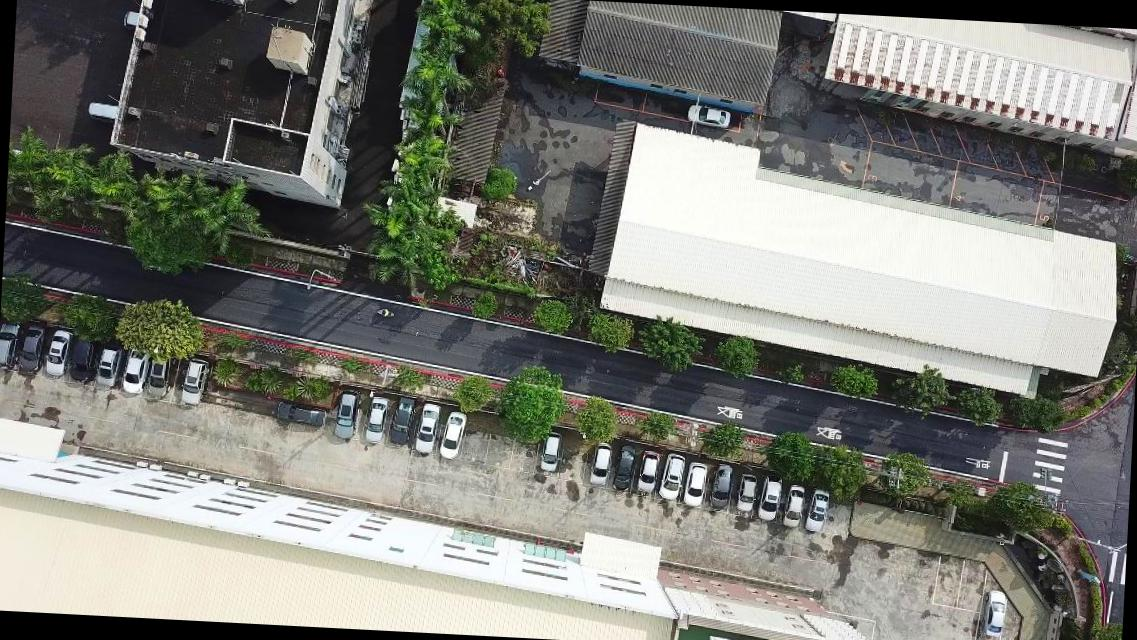vehicle: (413, 402, 442, 456), (17, 324, 47, 376), (438, 410, 469, 460), (387, 395, 416, 447), (332, 388, 360, 439), (42, 329, 72, 376), (122, 343, 148, 395), (274, 399, 324, 426), (181, 357, 210, 403), (804, 488, 832, 533), (68, 337, 95, 383), (659, 453, 685, 500), (983, 587, 1007, 637), (756, 475, 782, 521), (95, 342, 122, 386), (682, 462, 707, 507), (366, 394, 388, 444), (146, 351, 170, 396), (612, 446, 636, 491), (709, 462, 732, 508), (686, 104, 730, 127), (0, 322, 21, 370), (637, 449, 659, 494), (782, 482, 804, 526), (539, 431, 563, 470), (591, 442, 612, 484), (737, 470, 757, 514), (85, 100, 118, 122), (120, 8, 140, 32)
